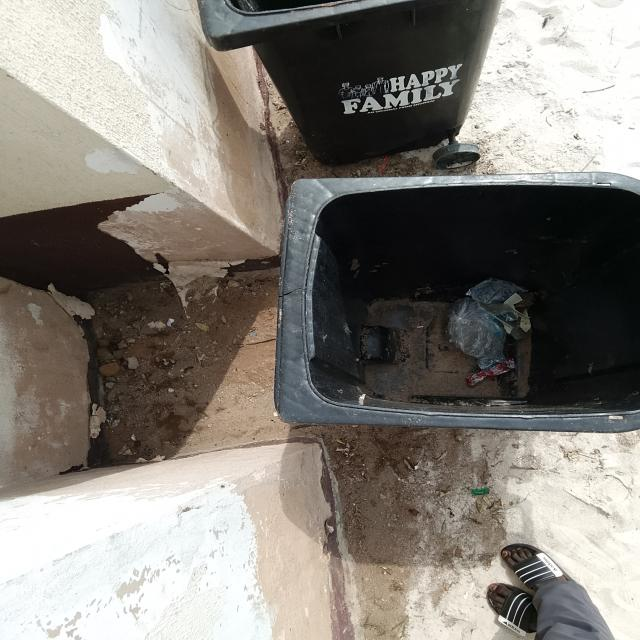empty: (281, 178, 640, 443)
